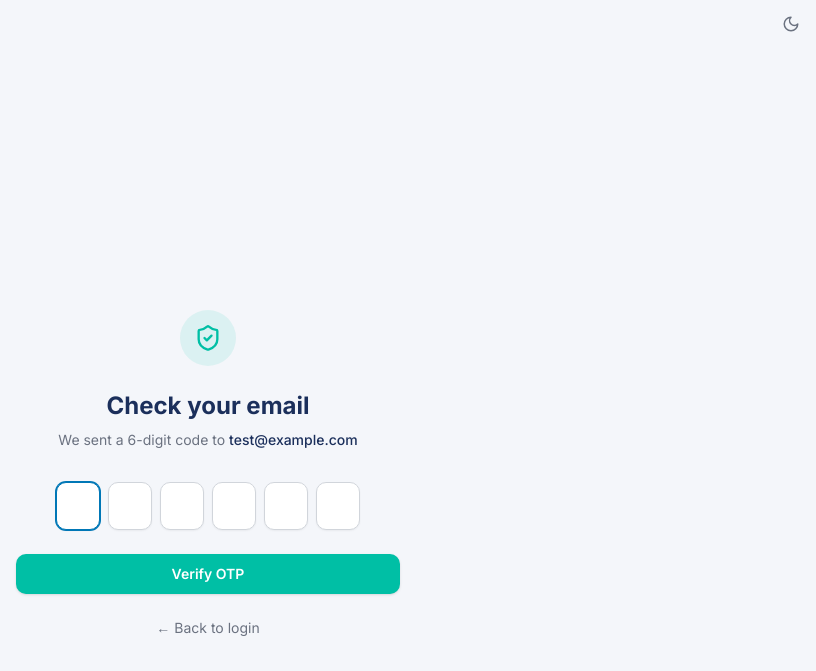
OTPPage › displays error message on failed verification
In the 1st field: {"x": 78, "y": 506} left=56, top=482, right=100, bottom=530, type "9"
In the 2nd field: {"x": 130, "y": 506} left=108, top=482, right=152, bottom=530, type "9"
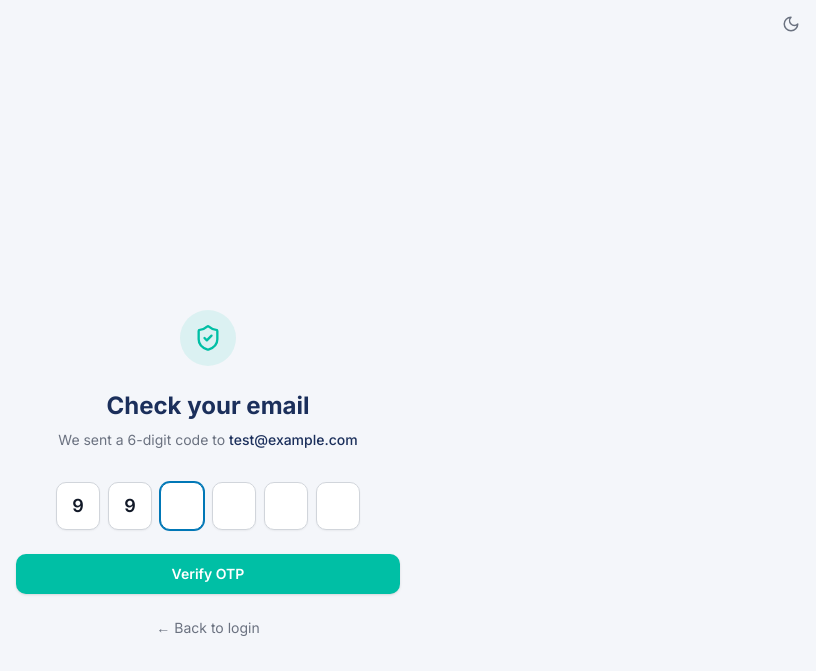
In the 3rd field: {"x": 182, "y": 506} left=160, top=482, right=204, bottom=530, type "9"
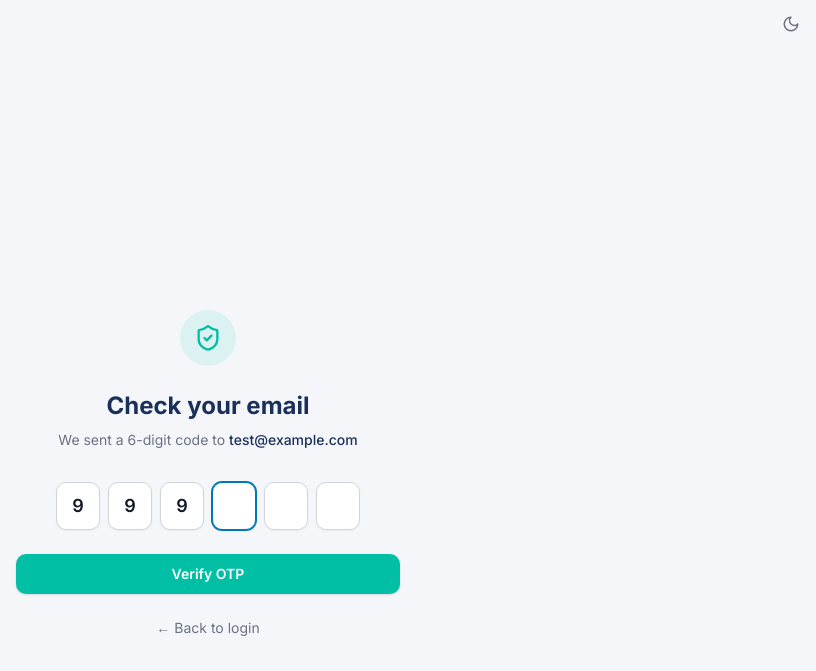
In the 4th field: {"x": 234, "y": 506} left=212, top=482, right=256, bottom=530, type "9"
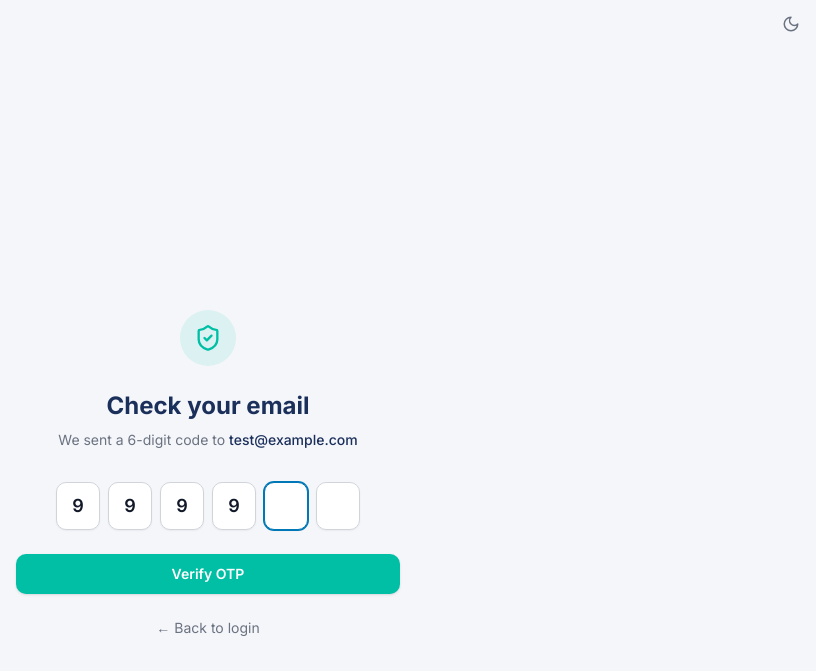
In the 5th field: {"x": 286, "y": 506} left=264, top=482, right=308, bottom=530, type "9"
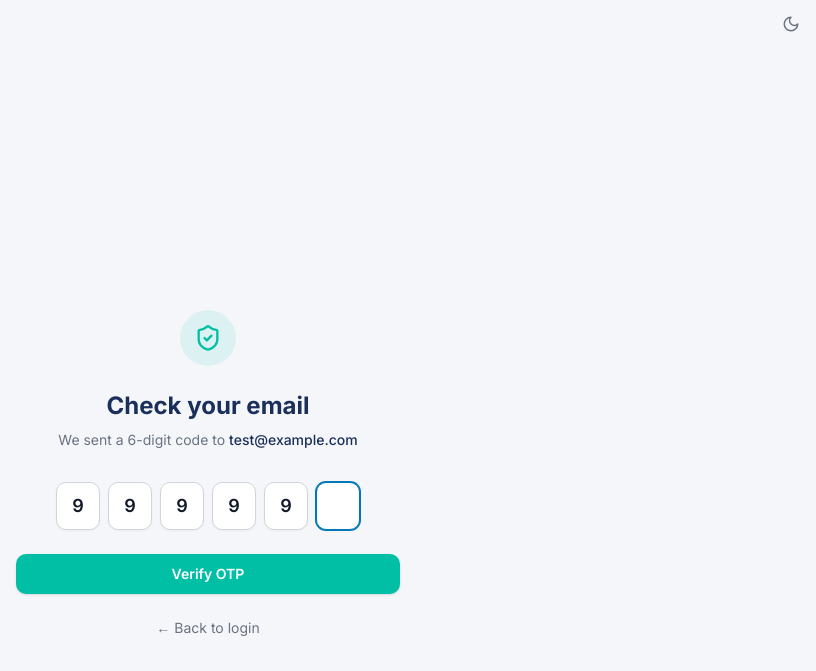
In the 6th field: {"x": 338, "y": 506} left=316, top=482, right=360, bottom=530, type "9"
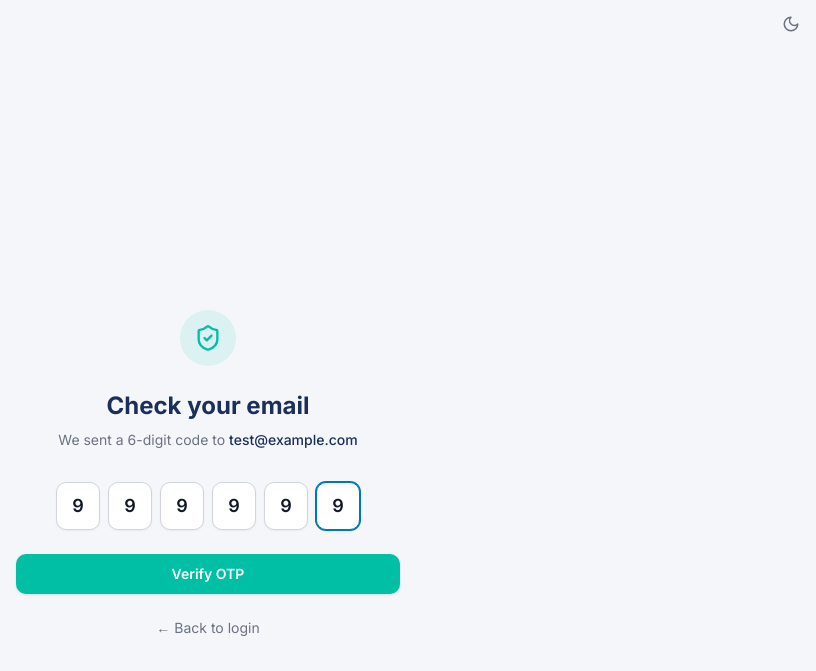
Click the button "Verify OTP": {"x": 208, "y": 574} left=16, top=554, right=400, bottom=594
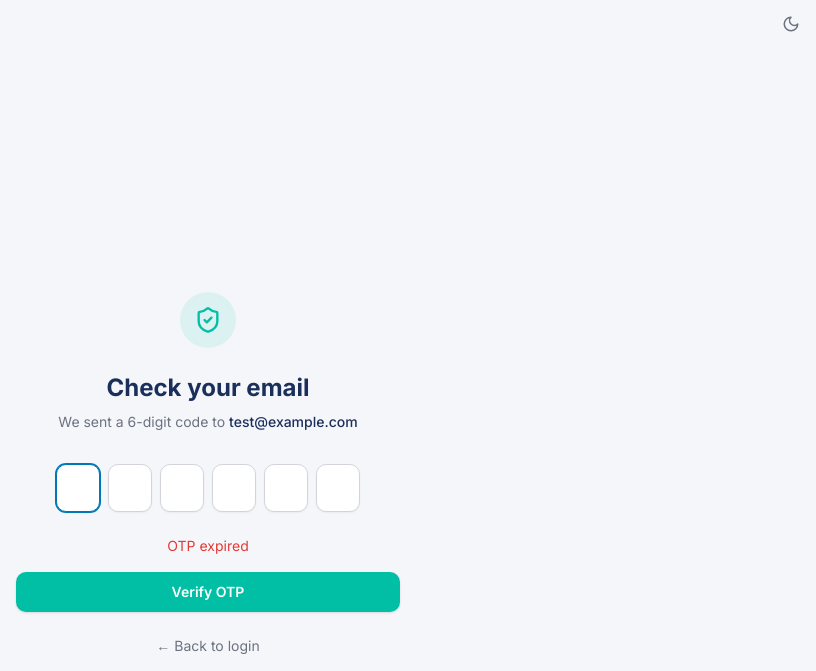
Expected: the text "OTP expired" is shown, left=167, top=536, right=249, bottom=554
